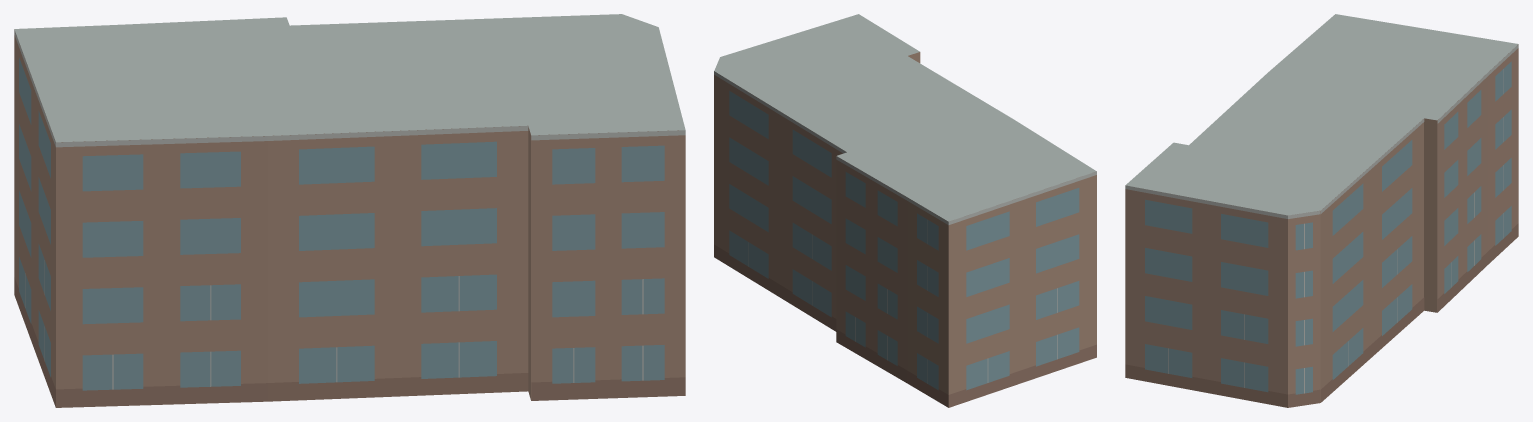
The model's file is survey-upis-32596854.glb.
3 views of the same model, side by side, from view 1: azimuth 30°, elevation 25°; view 2: azimuth 150°, elevation 25°; view 3: azimuth 270°, elevation 25° (orthographic). The views are drawn at different scales.
Parts seen in each view (by area): view 1: survey-upis-32596854.tmp; view 2: survey-upis-32596854.tmp; view 3: survey-upis-32596854.tmp.
Part boxes in pixels (x1,y1,x2,y2): survey-upis-32596854.tmp: (14, 14, 685, 407); survey-upis-32596854.tmp: (714, 14, 1096, 407); survey-upis-32596854.tmp: (1125, 14, 1518, 407).
Size of the model in its own units: 28.76 by 12.8 by 23.73.
